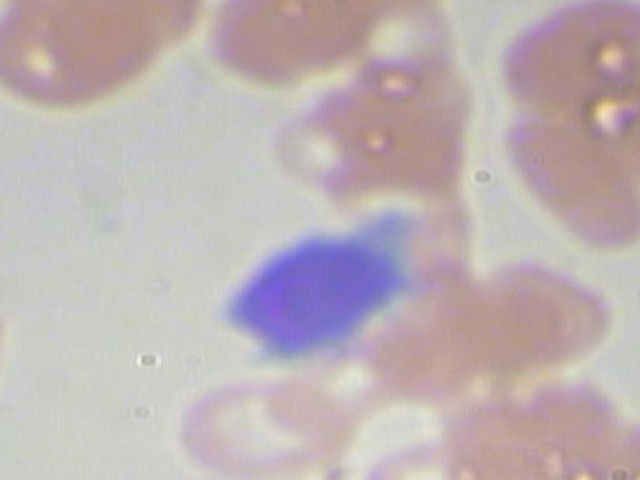WBC: (179, 206, 419, 372)
